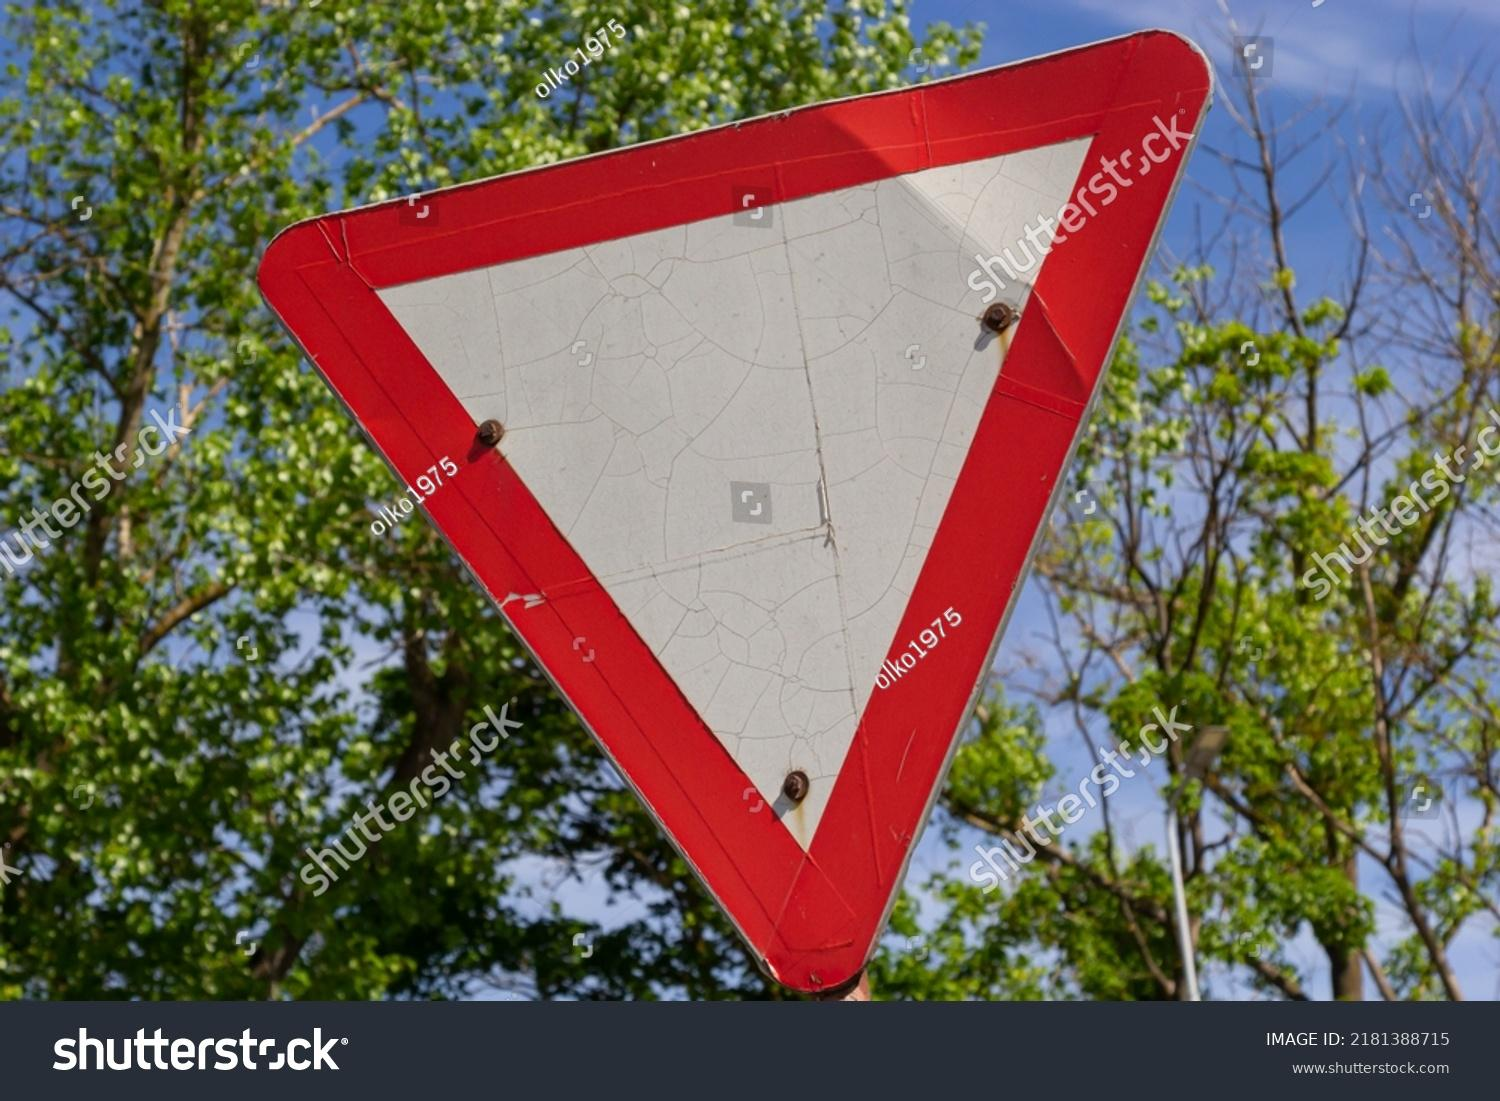Give Way: (243, 80, 1395, 958)
